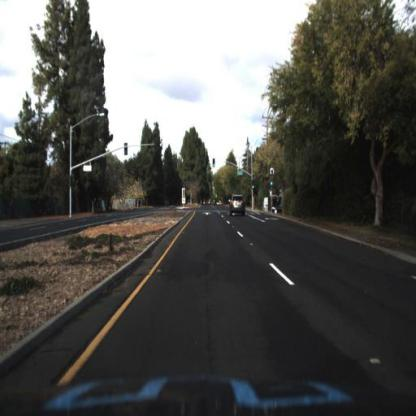car: (230, 194, 247, 217), (270, 203, 282, 220)
trafficLight-Green: (269, 175, 276, 189), (212, 158, 218, 172), (251, 179, 256, 194), (250, 181, 256, 192), (213, 157, 218, 170), (269, 177, 274, 190)
